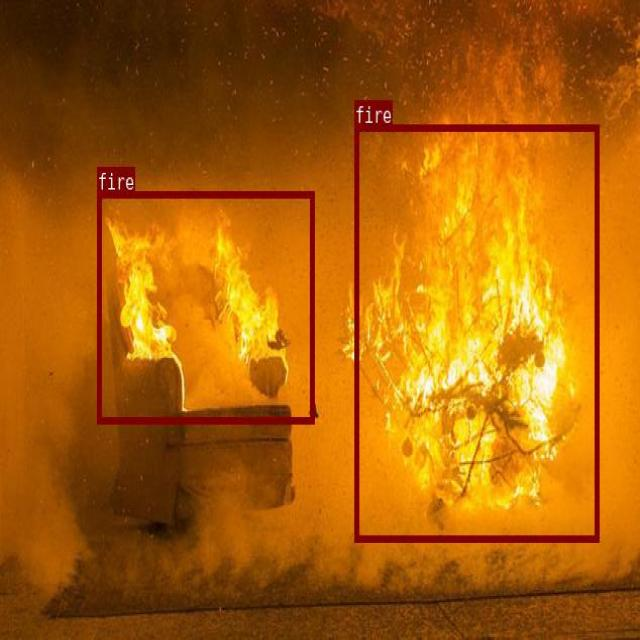fire: (354, 123, 598, 540), (97, 190, 313, 422)
